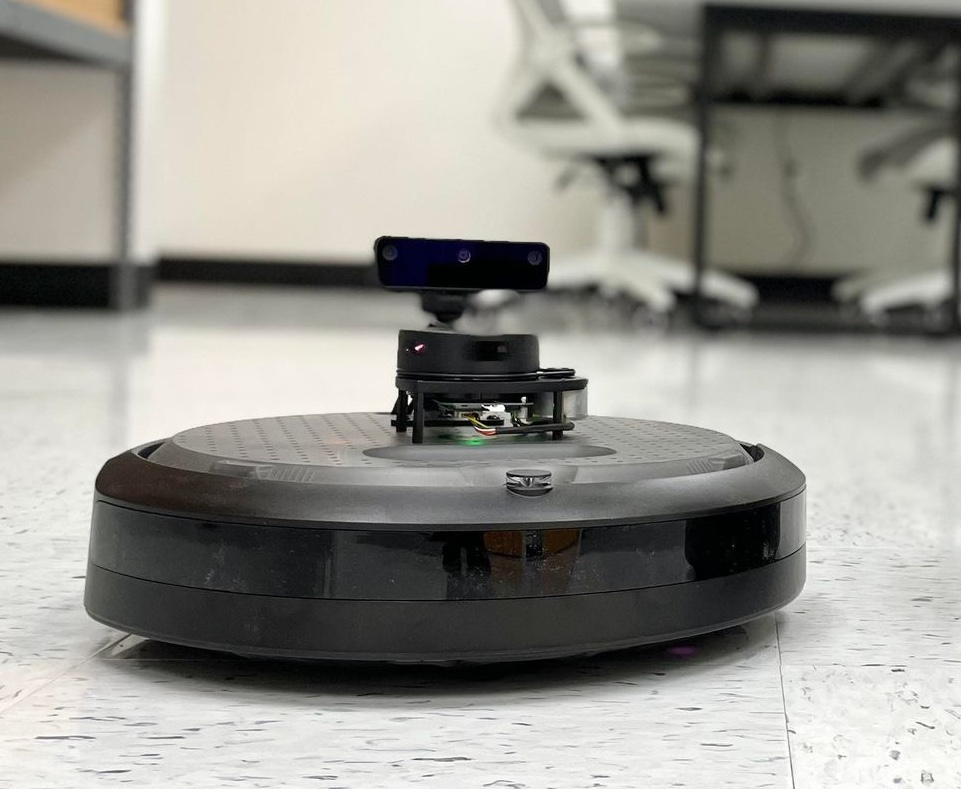turtlebot: (59, 174, 835, 766)
